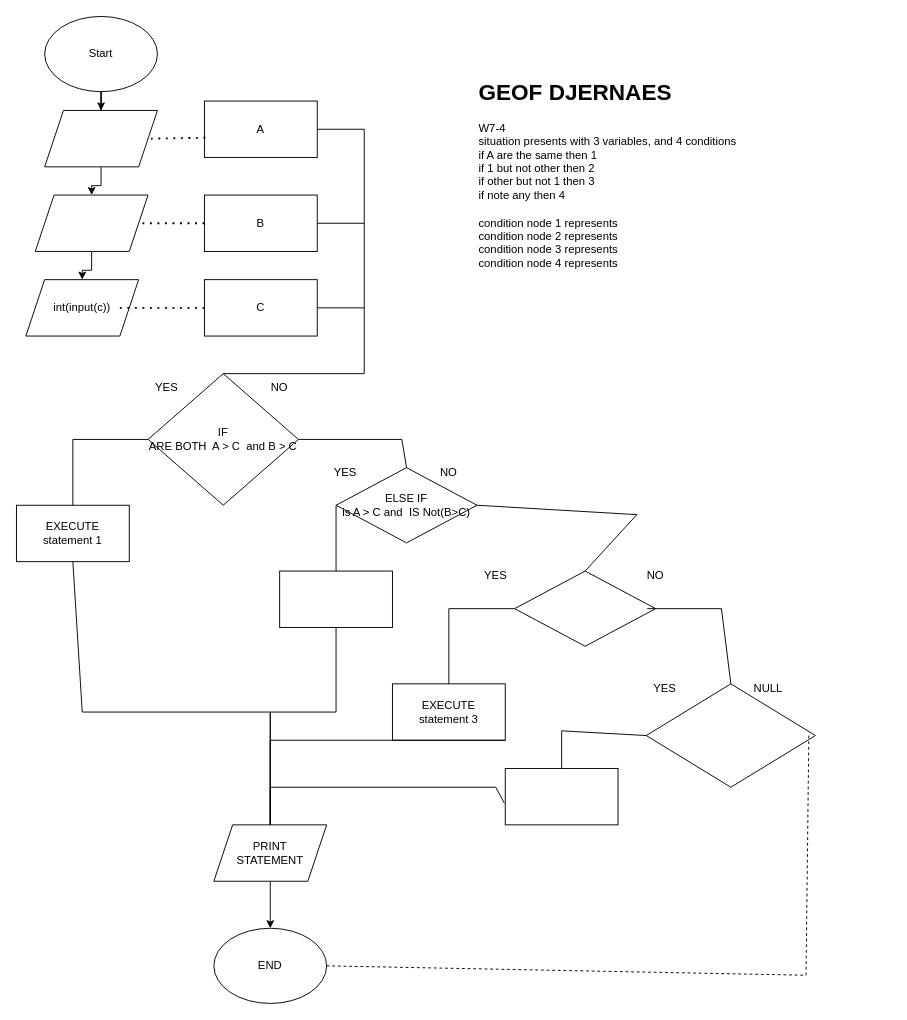
Some shapes in this 907 by 1020 pixel diagram are drawn without their labels. Each missing label, with the box of its shape:
ELSE IF is Not(a>C) and IS B>c: (514, 570, 656, 646)
ELSE NOT(A > C) and NOT(B > C): (645, 683, 815, 787)
EXECUTE statement 2: (279, 570, 392, 627)
EXECUTE statement 4: (504, 768, 618, 825)
int(input(A)): (44, 110, 157, 167)
int(input(B)): (34, 194, 148, 251)
